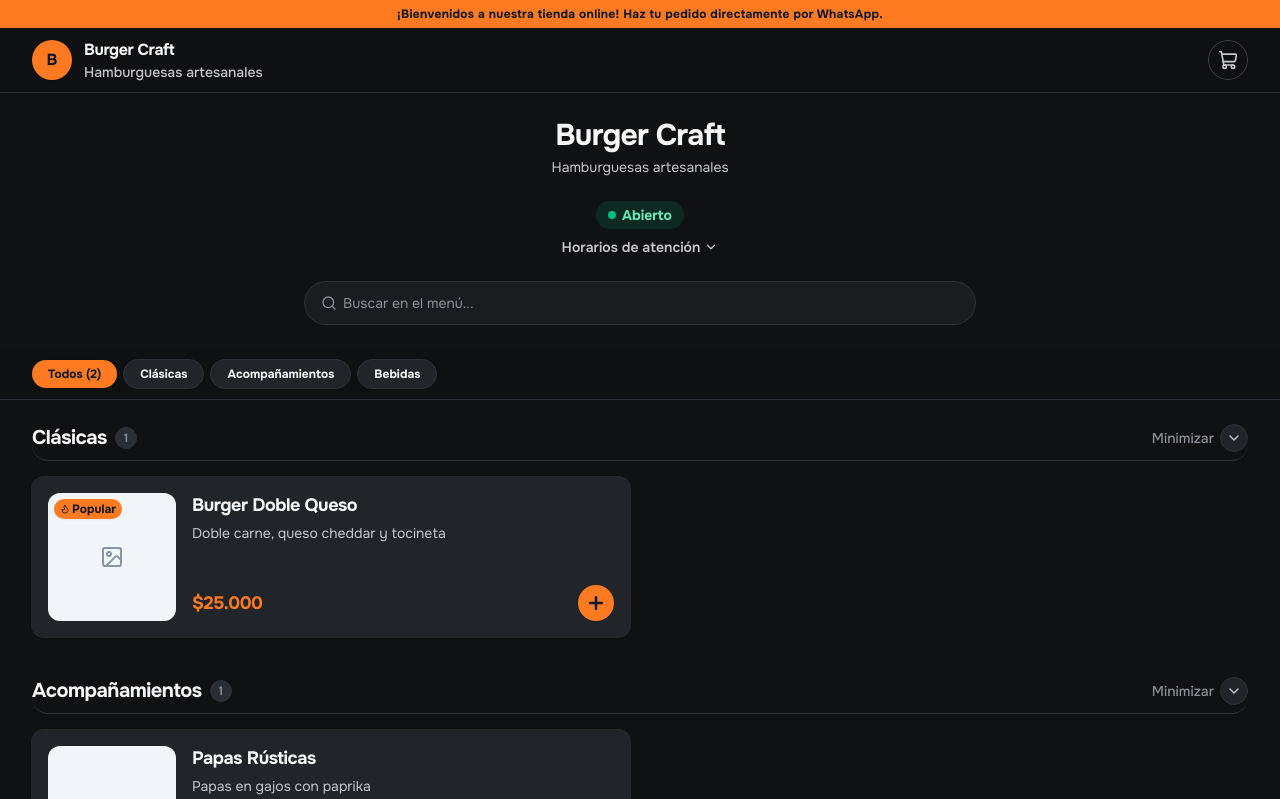
it: Storefront Navigation & Cart / Checkout Flow › returns to catalog when clicking 'Seguir comprando' after returning from checkout
Expected: the search field with placeholder "Buscar en el menú..." is shown, [337,281,971,325]
Click the button with aria-label "Agregar Burger Doble Queso al carrito, $25.000". click: coordinates (112, 557)
box: [32,477,630,637]
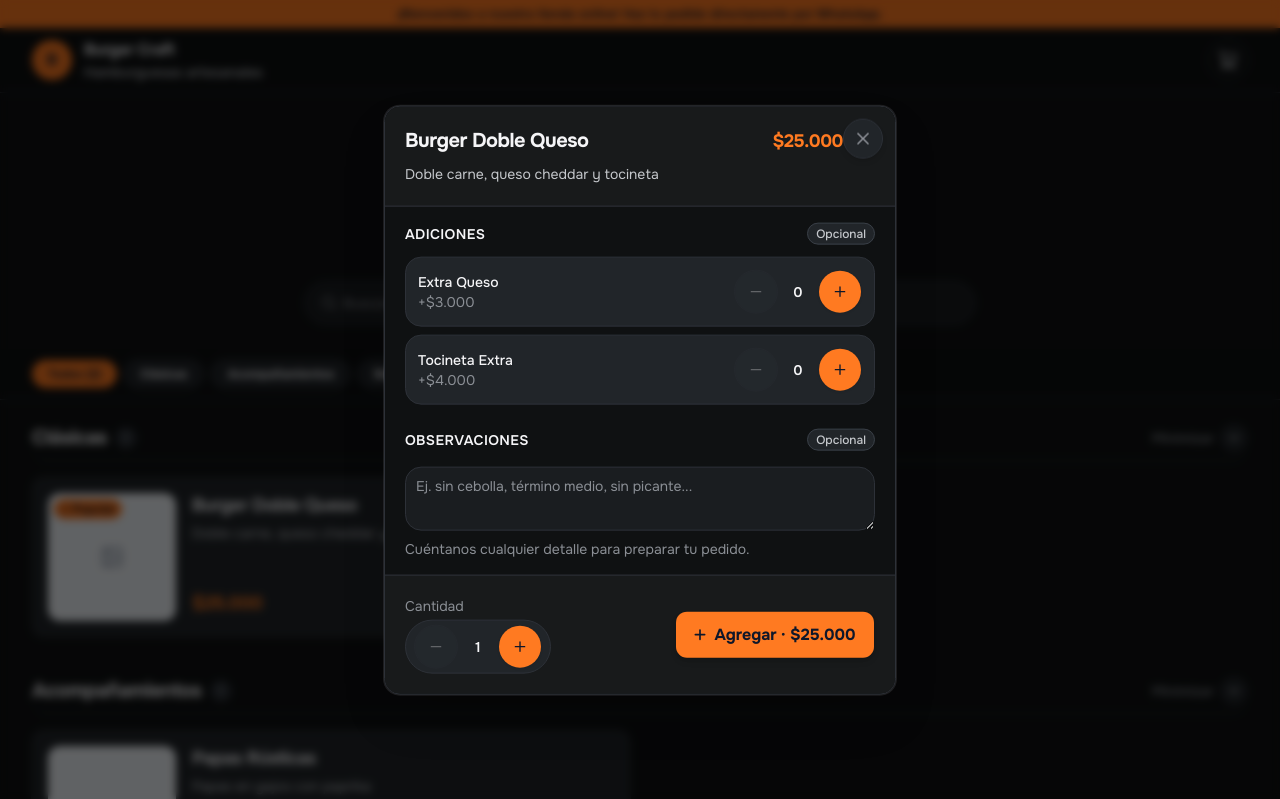
// In AdditionsModal, click "Agregar · $..."
Click the button "Agregar · $25.000". click: coordinates (775, 634)
box: [675,610,875,658]
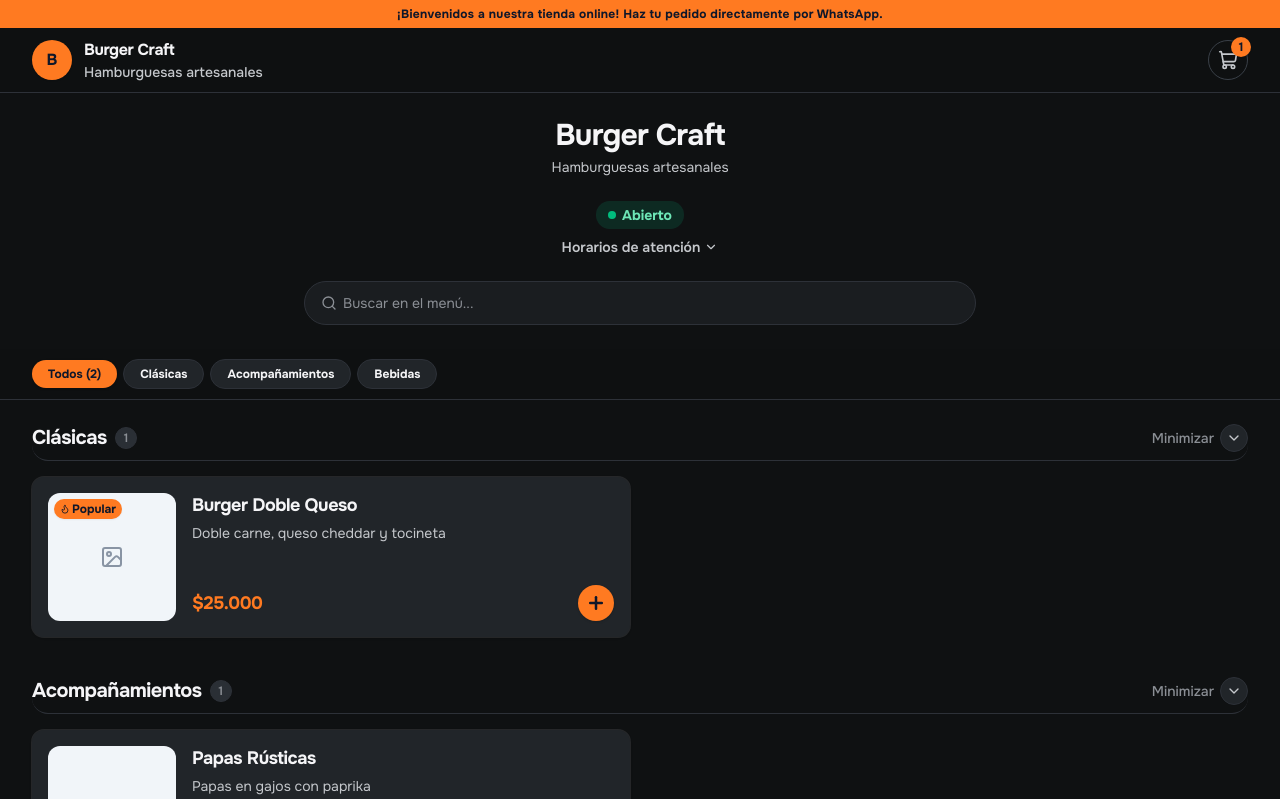
// Open cart via navbar or mobile bar
Click the button named "Ver orden". click: coordinates (1228, 60)
box: [1208,40,1248,80]
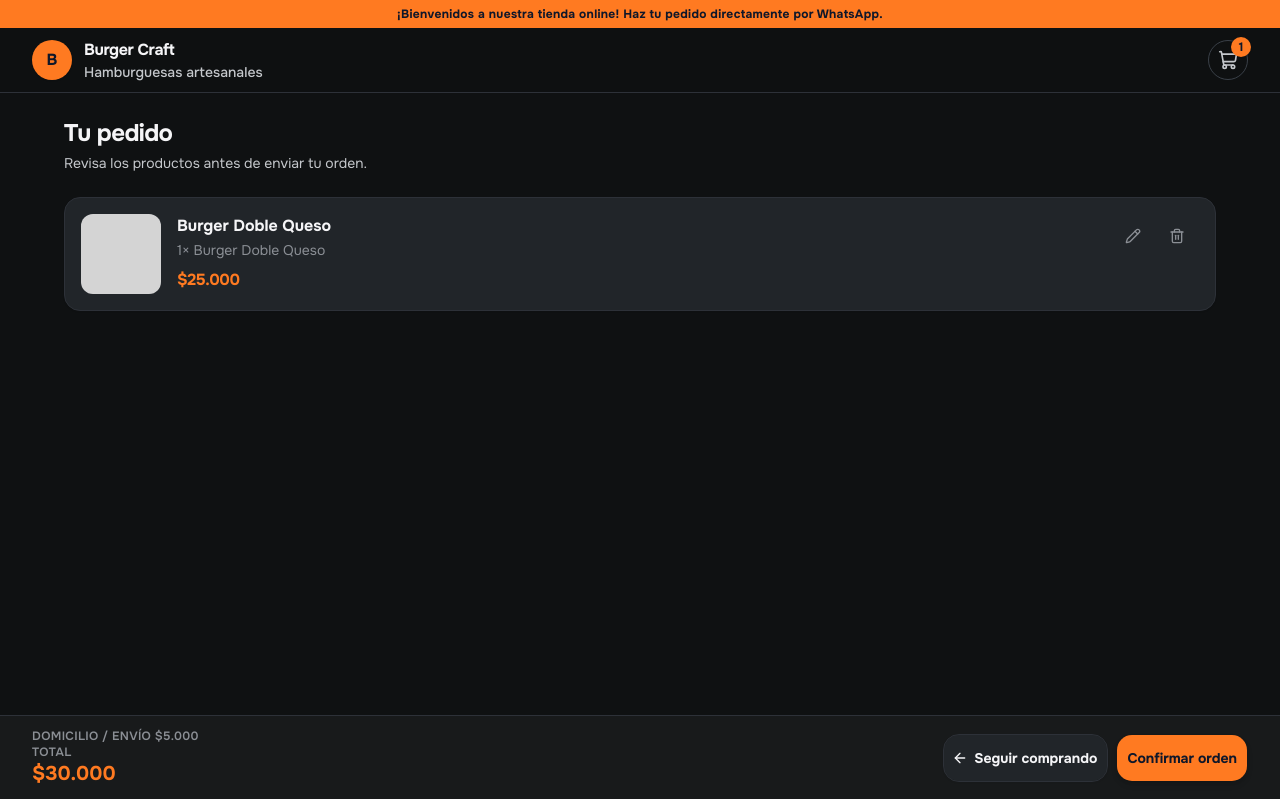
Now the heading "Tu pedido" is shown, box [64,118,172,148]
// Click "Confirmar orden" to proceed to checkout
Click the button "Confirmar orden". click: coordinates (1182, 758)
box: [1116,734,1248,782]
(page scrolled)
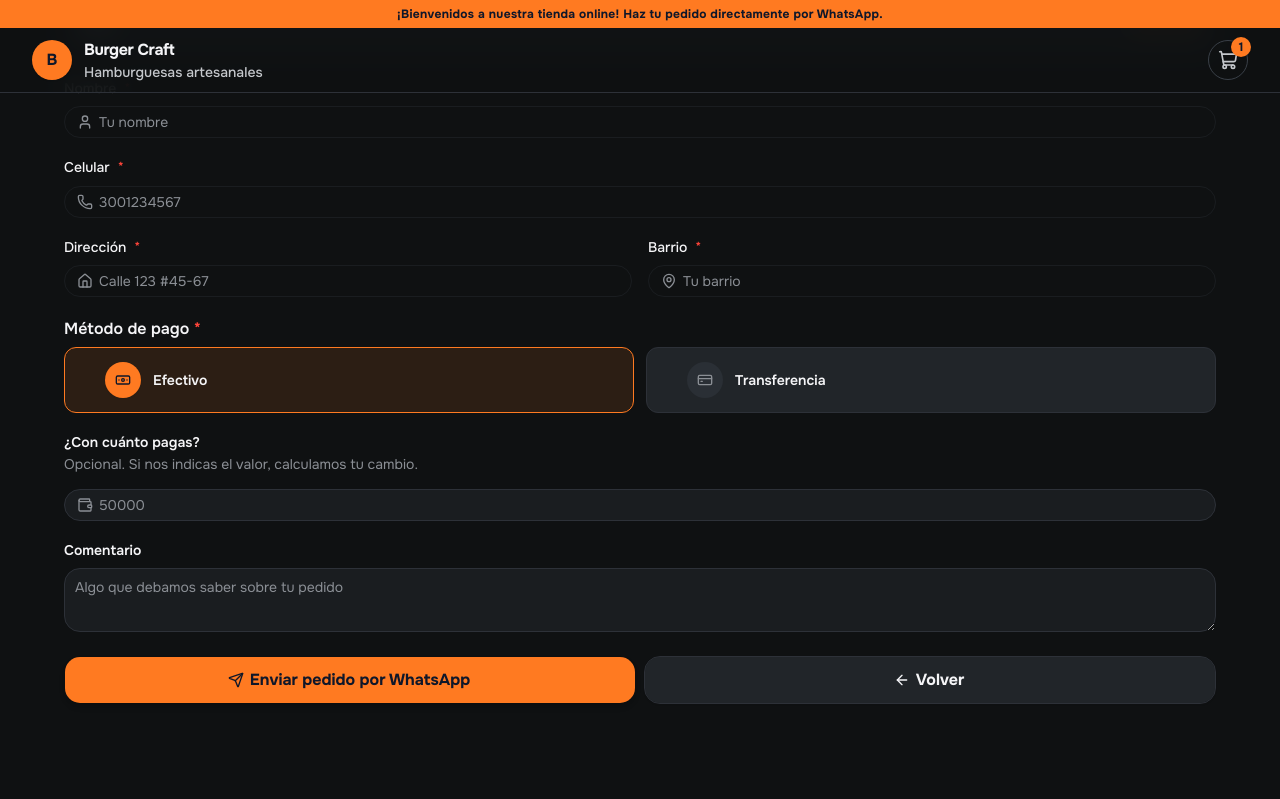
// Click "Volver" to return to cart
Click the button "Volver". click: coordinates (930, 680)
box: [644,656,1216,704]
(page scrolled)
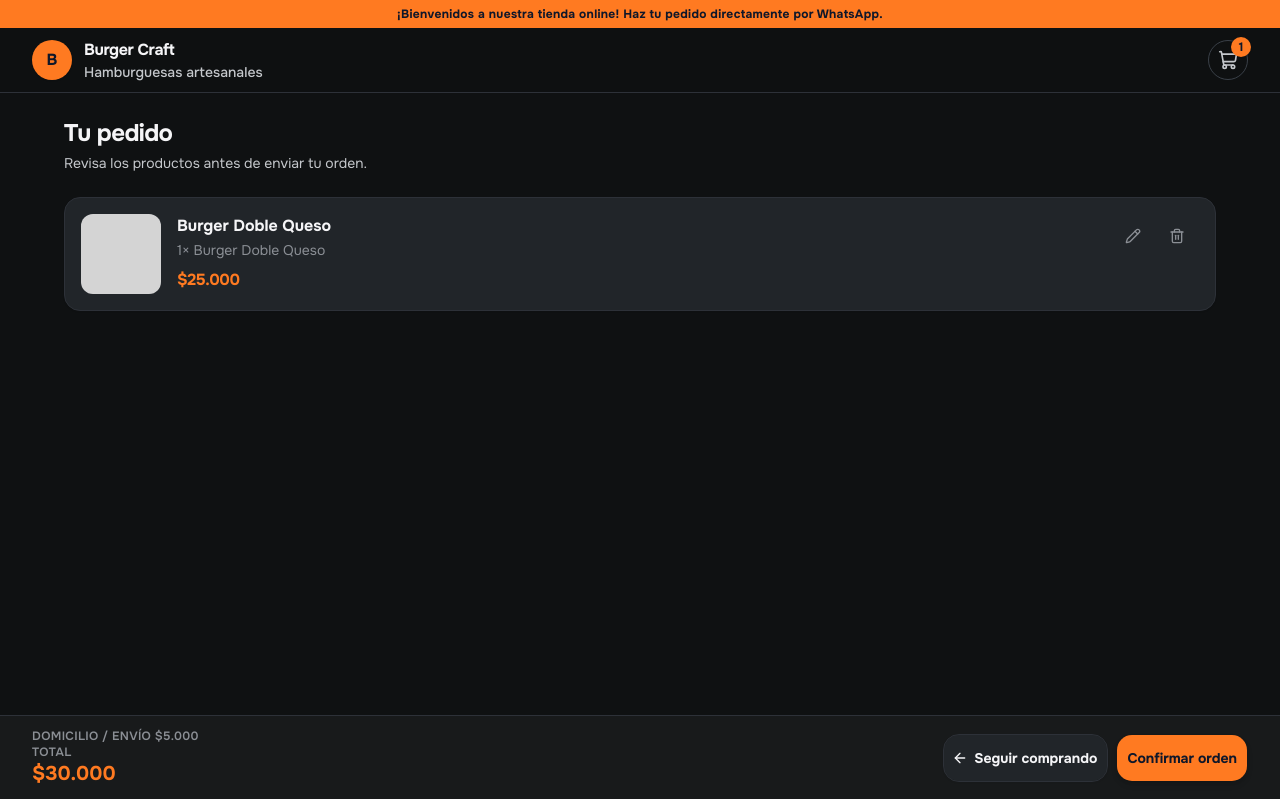
Now the heading "Tu pedido" is shown, box [64,118,172,148]
// Click "Seguir comprando"
Click the button "Seguir comprando". click: coordinates (1026, 758)
box: [943,734,1108,782]
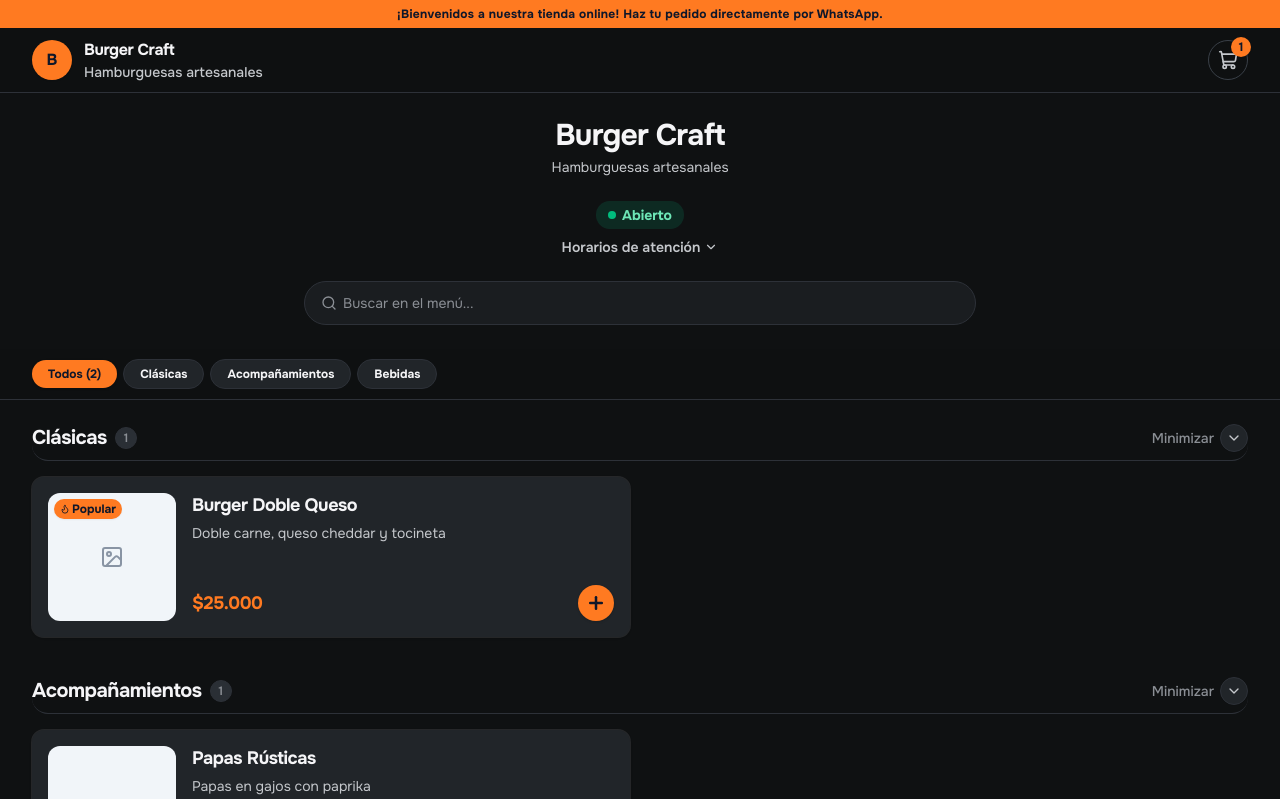
Now the search field with placeholder "Buscar en el menú..." is shown, box [337,281,971,325]
